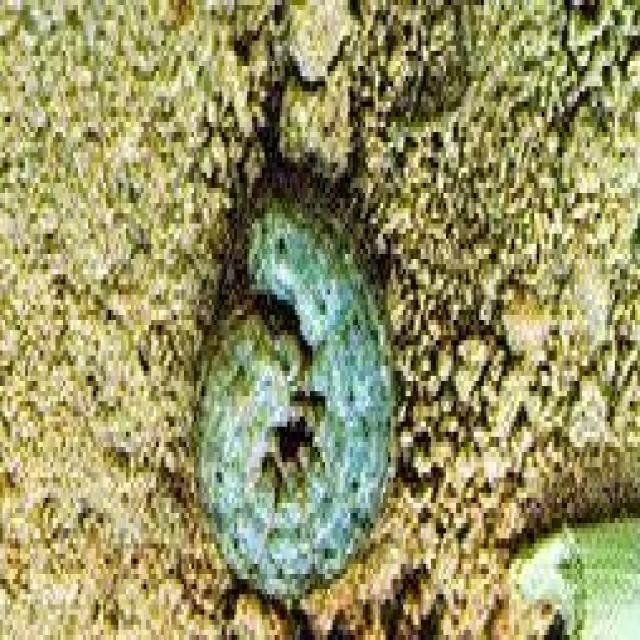black cutworm: (193, 181, 399, 603)
